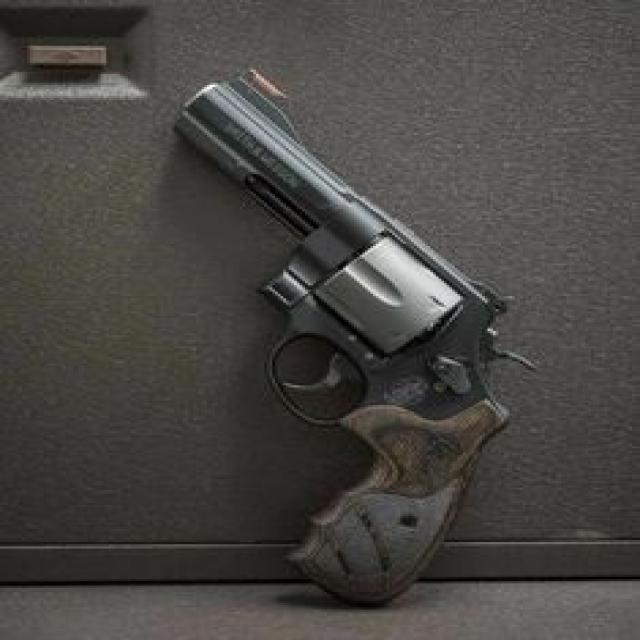revolver: (139, 65, 577, 620)
